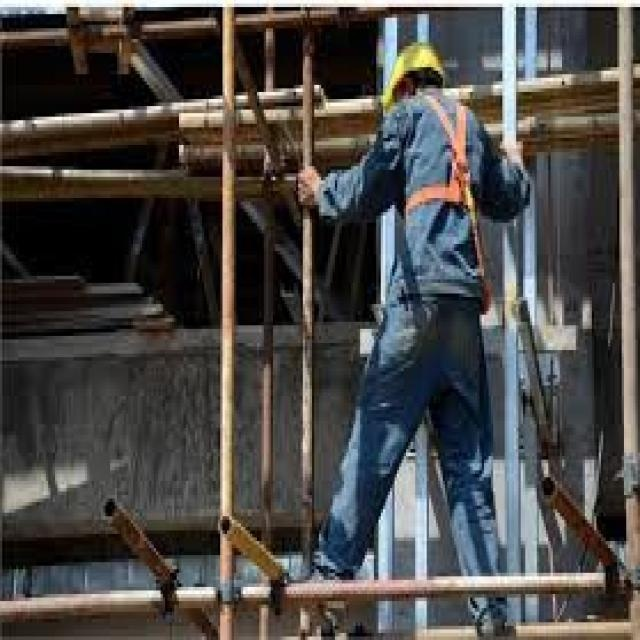Arnes_seguridad: (395, 85, 480, 230)
